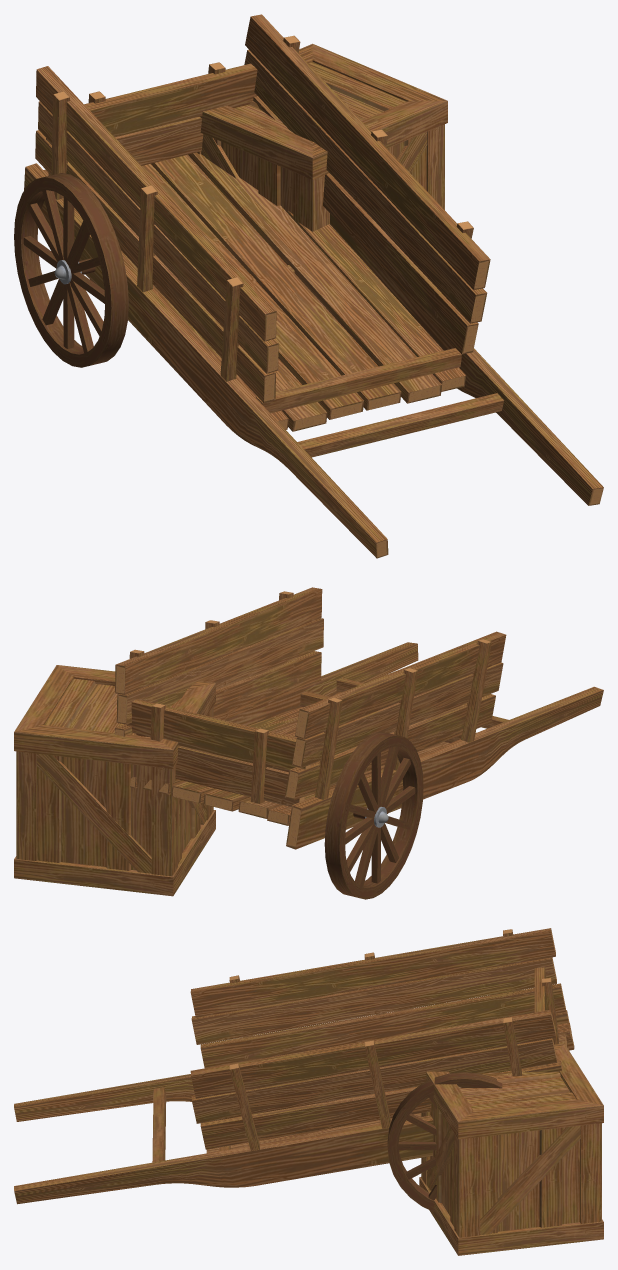
The model's file is Wagon.gltf.
The picture shows the model from 3 angles, top to bottom: view 1: azimuth 30°, elevation 25°; view 2: azimuth 150°, elevation 25°; view 3: azimuth 270°, elevation 25°; orthographic projection. The views are drawn at different scales.
Visible parts, largest first — view 1: Wagon; view 2: Wagon; view 3: Wagon.
Boxes of the visible parts, <box> form: Wagon: <box>14,14,603,558</box>; Wagon: <box>14,587,603,899</box>; Wagon: <box>14,928,603,1255</box>.
Bounding box in the file's own units: 2.54 × 1.53 × 4.24.
1 material, 1 textured.
